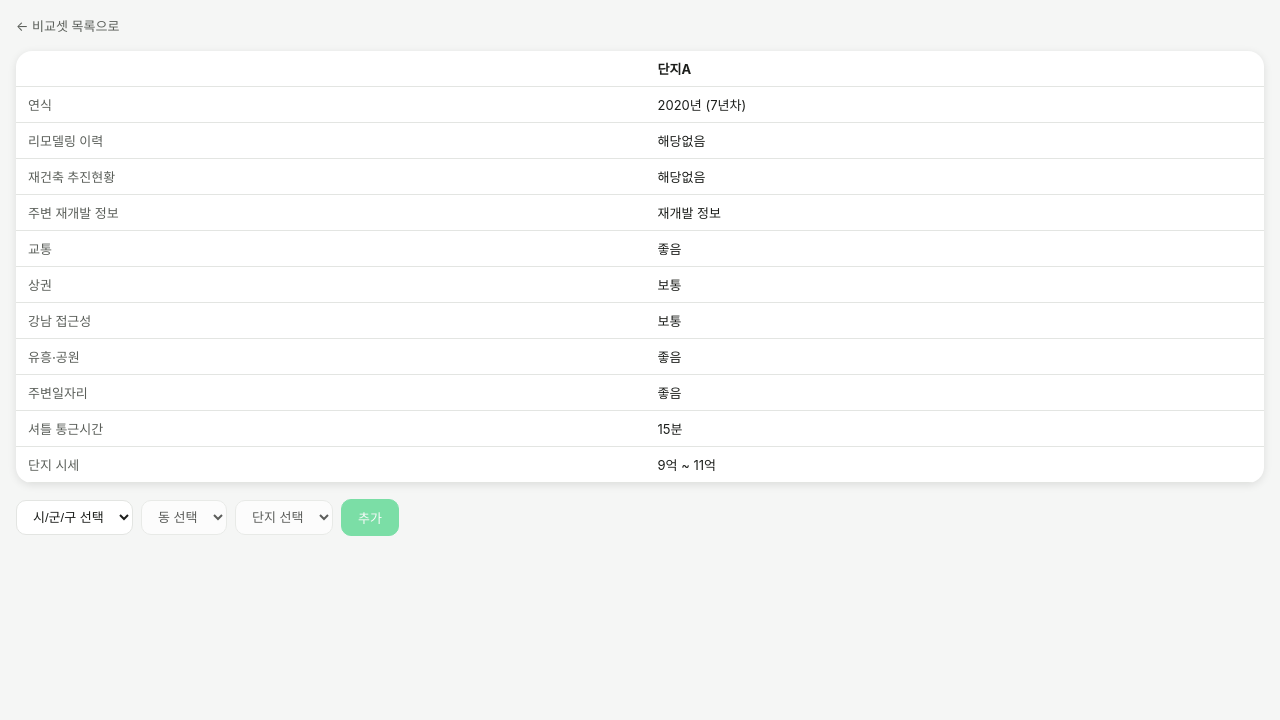
Test: ComparisonSetScreen › 중복 추가 시(409) 에러 메시지가 담긴 Modal이 표시되고 기존 테이블은 변경되지 않는다 (시나리오 3-3)
The width and height of the screenshot is (1280, 720).
Select "서울 강동구" in the dropdown named "시/군/구 선택": (74, 518) [16,500,133,535]
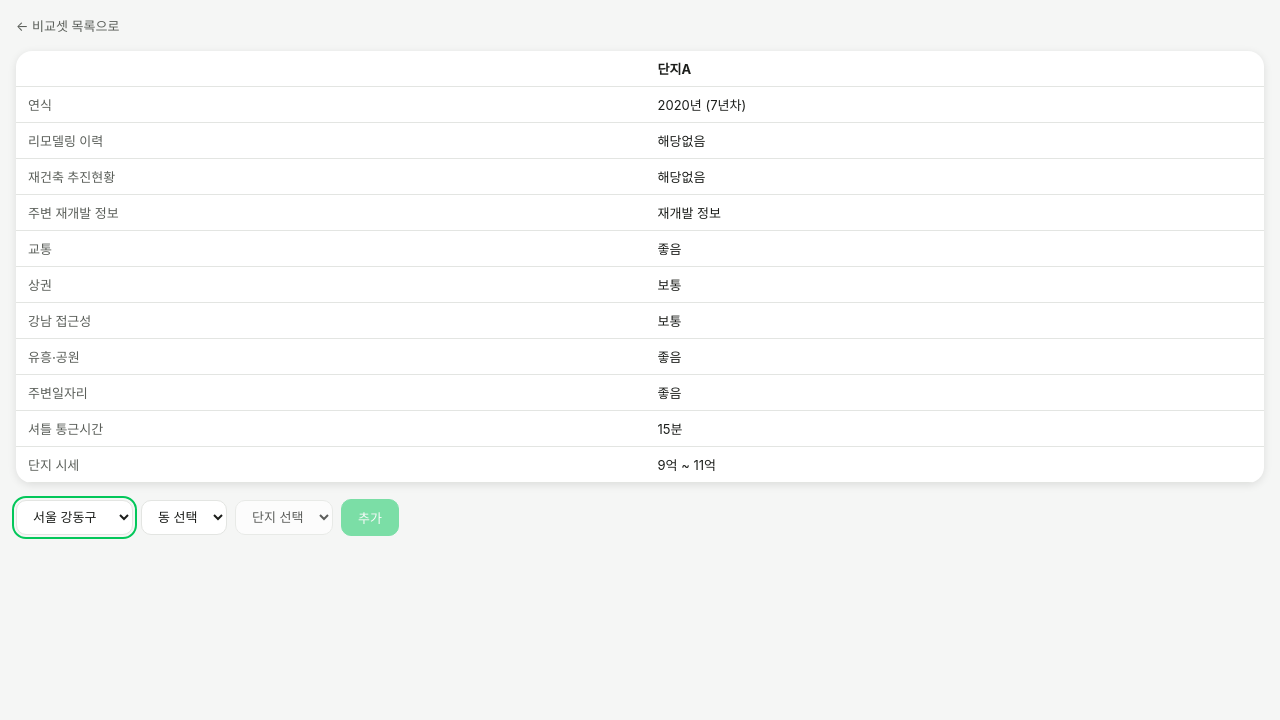
Select "길동" in the dropdown named "동 선택": (184, 518) [141,500,227,535]
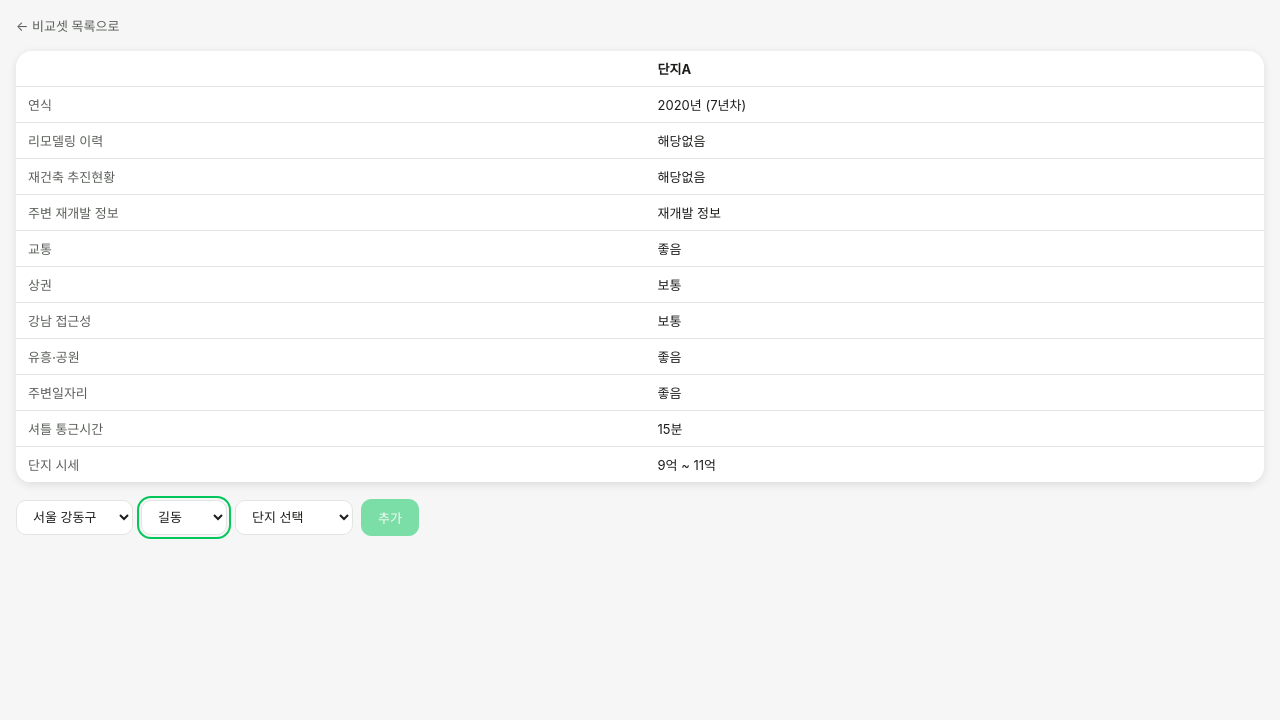
Select "추가가능단지" in the dropdown named "단지 선택": (294, 518) [235,500,353,535]
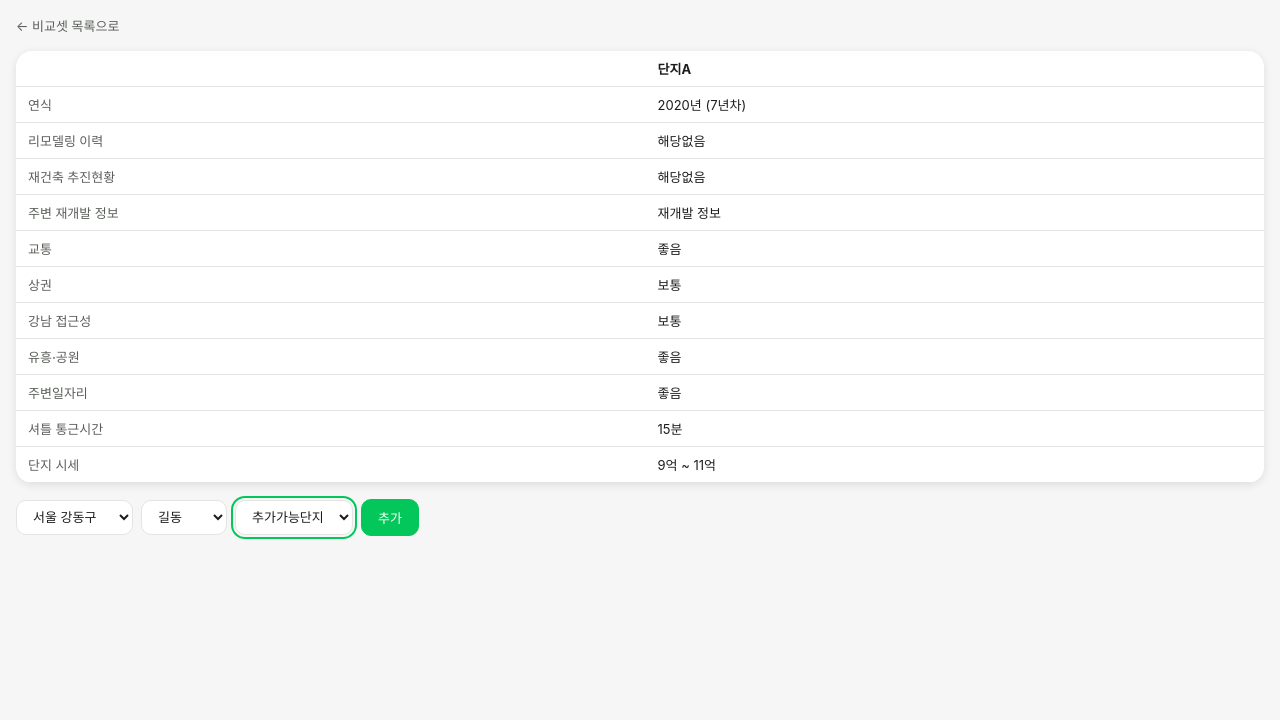
Click the button "추가": (390, 518) [361,499,419,536]
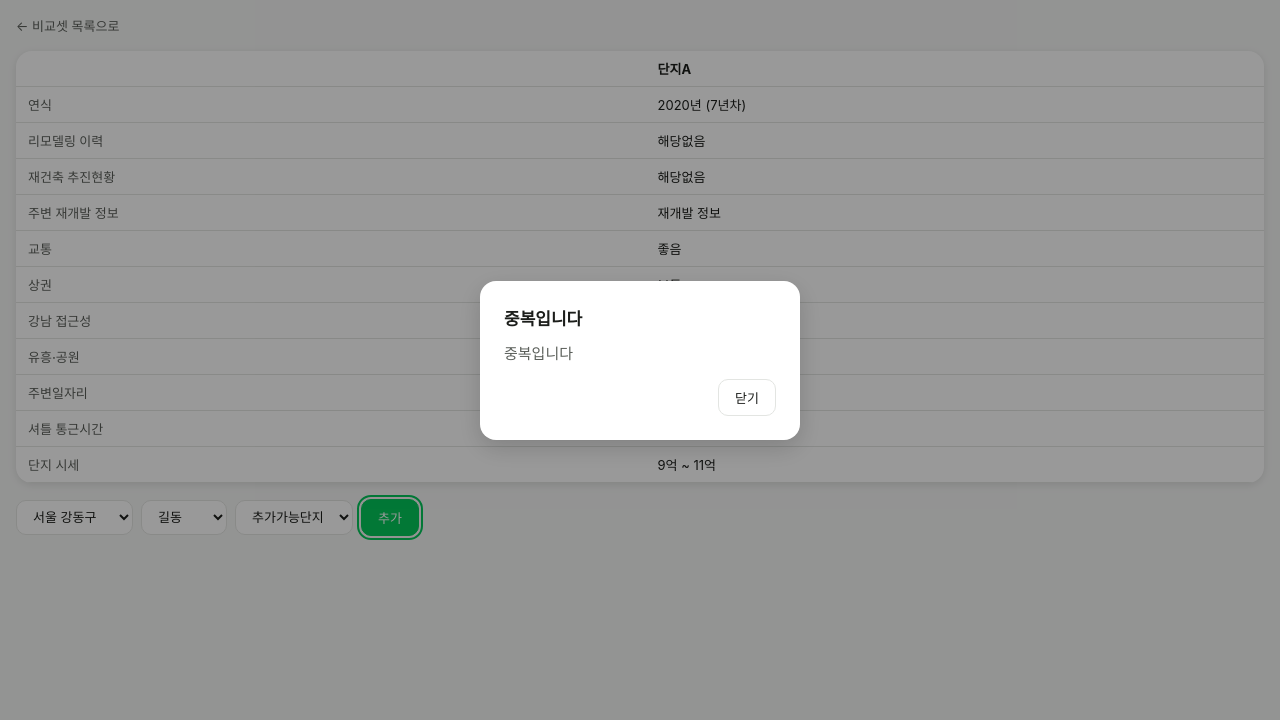
Check: the column heading "단지A" is shown, box [646,51,1264,86]
Check: the dialog shows "중복입니다", box [504,308,582,328]
